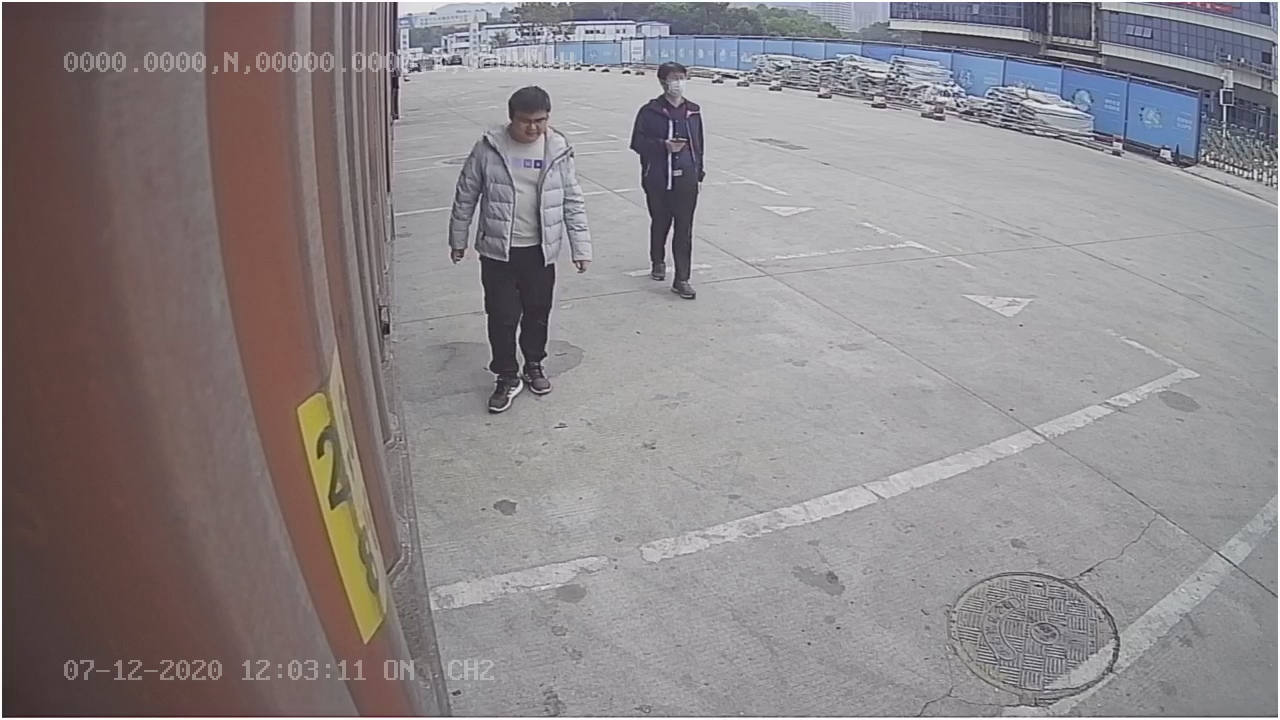person: (451, 85, 596, 418), (629, 54, 710, 301)
